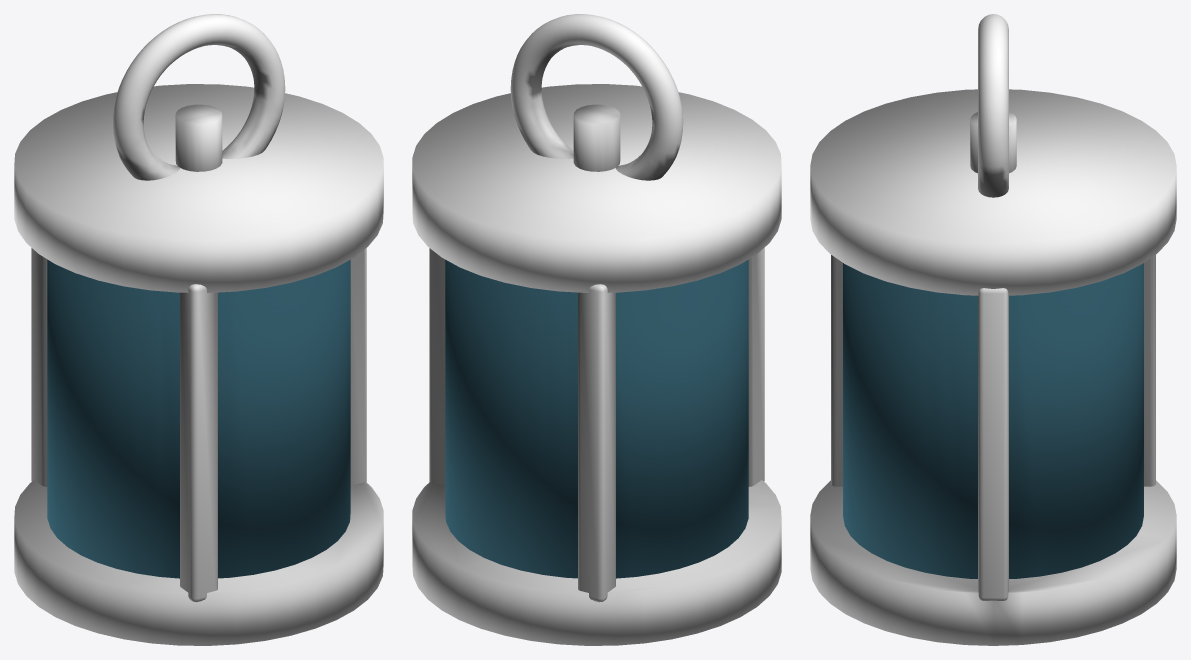
The model's file is lantern.obj.
The picture shows the model from 3 angles, left to right: view 1: azimuth 30°, elevation 25°; view 2: azimuth 150°, elevation 25°; view 3: azimuth 270°, elevation 25°; orthographic projection.
Visible parts, largest first — view 1: lantern; view 2: lantern; view 3: lantern.
Part boxes in pixels (x1,y1,x2,y2): lantern: (14, 14, 383, 645); lantern: (412, 14, 781, 645); lantern: (810, 14, 1176, 645).
Bounding box in the file's own units: 0.191 × 0.312 × 0.19.
